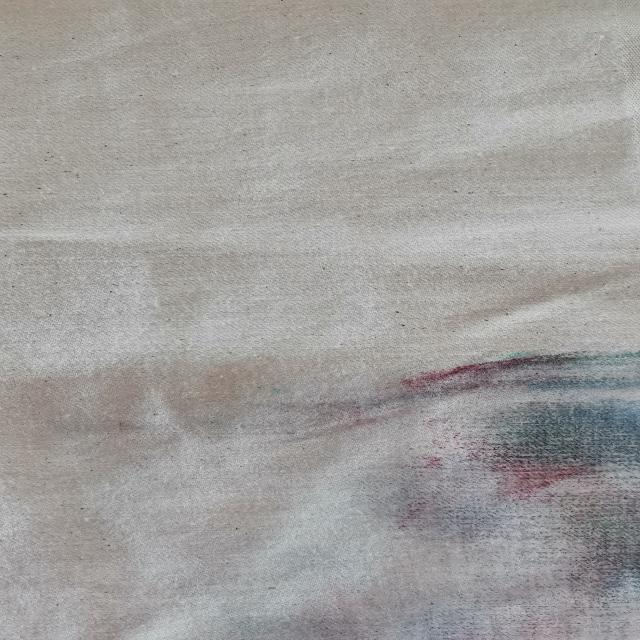taaaches: (284, 341, 640, 640)
